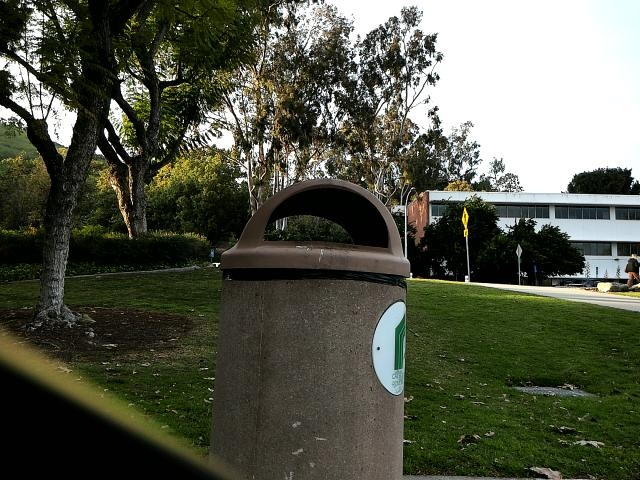trashcan: (212, 172, 424, 480)
